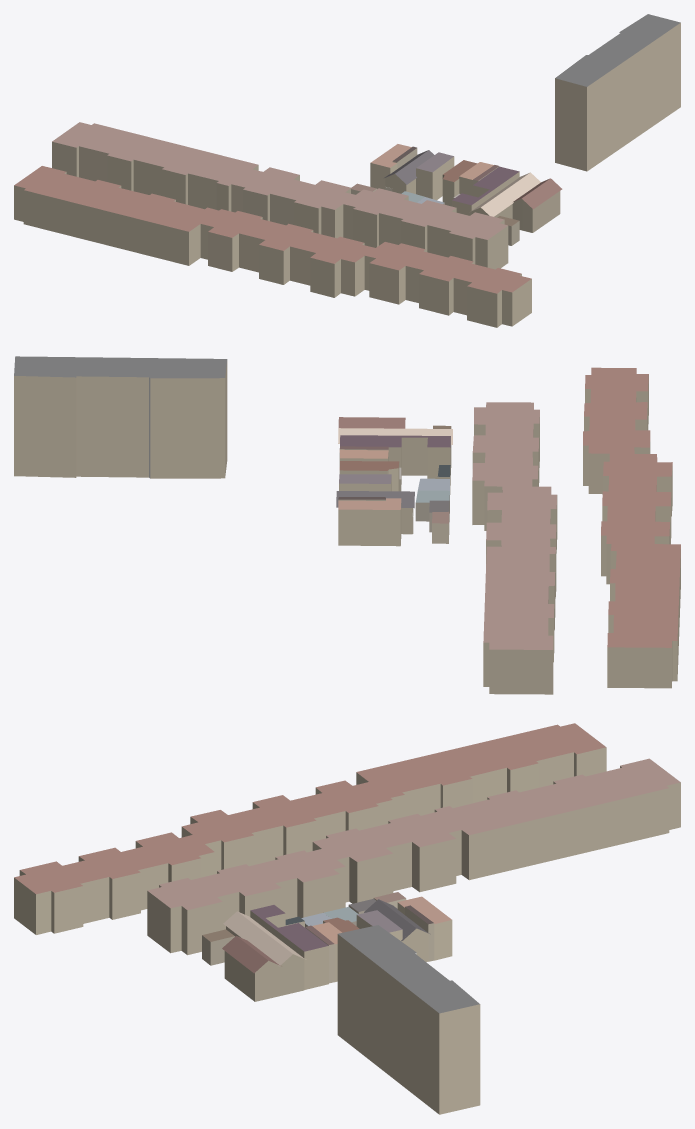
3 views of the same model, one above another, from view 1: azimuth 30°, elevation 25°; view 2: azimuth 150°, elevation 25°; view 3: azimuth 270°, elevation 25° (orthographic). The views are drawn at different scales.
Parts seen in each view (by area): view 1: tuile; view 2: tuile; view 3: tuile.
Boxes of the visible parts, left/top/right/bottom form: tuile: left=14, top=14, right=680, bottom=327; tuile: left=14, top=356, right=680, bottom=694; tuile: left=14, top=723, right=680, bottom=1114.
Bounding box in the file's own units: 145 × 20.32 × 115.
